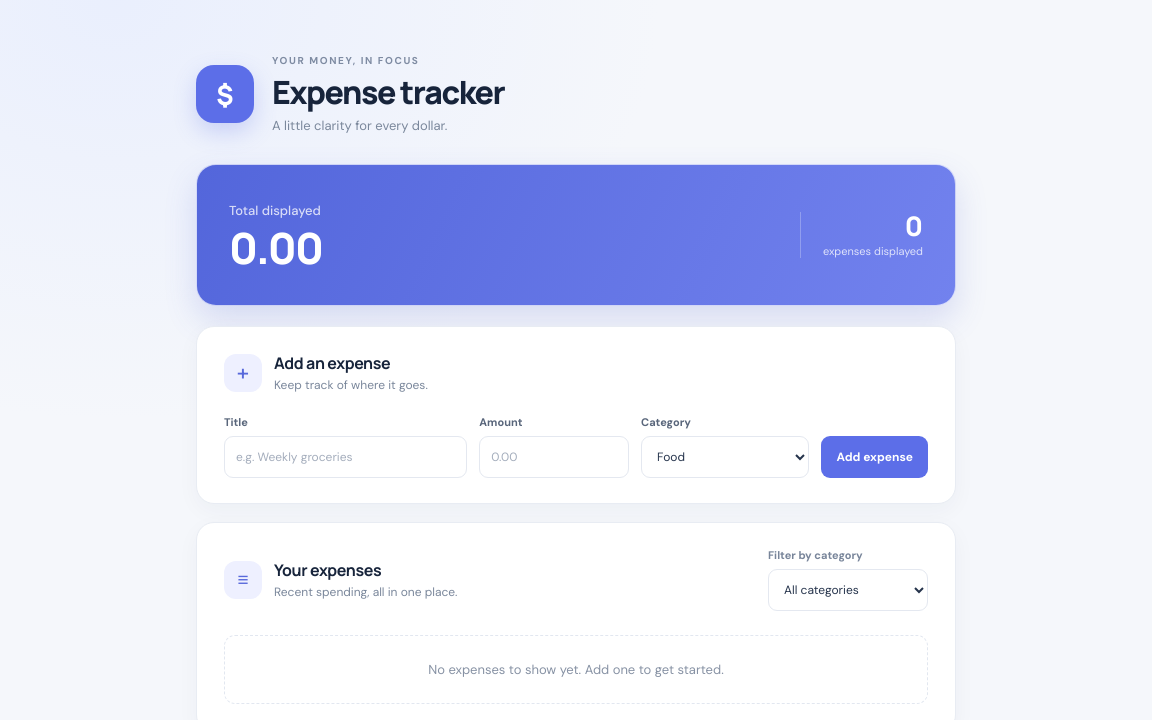
Test: Expense tracker › does not add an empty title or negative amount
The width and height of the screenshot is (1152, 720).
Type "10" into the number field with test id "amount" at (554, 457), box x1=479 y1=436 x2=629 y2=478
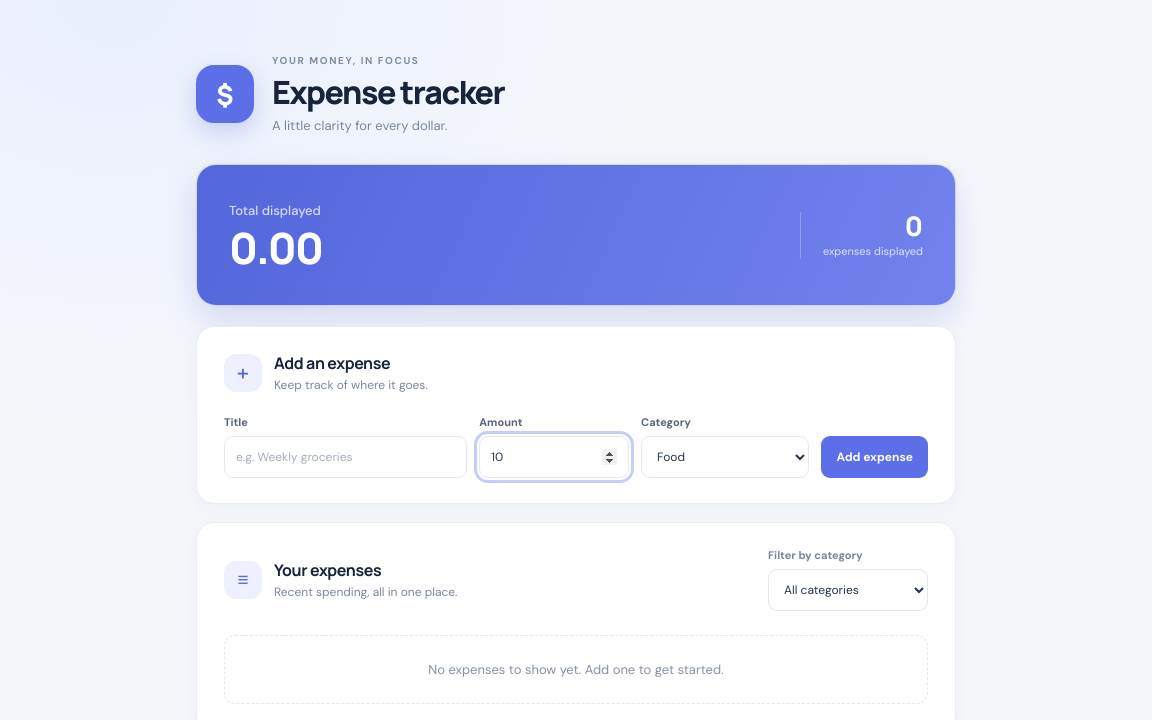
Click the button with test id "add-expense" at (876, 457), box x1=822 y1=436 x2=929 y2=478
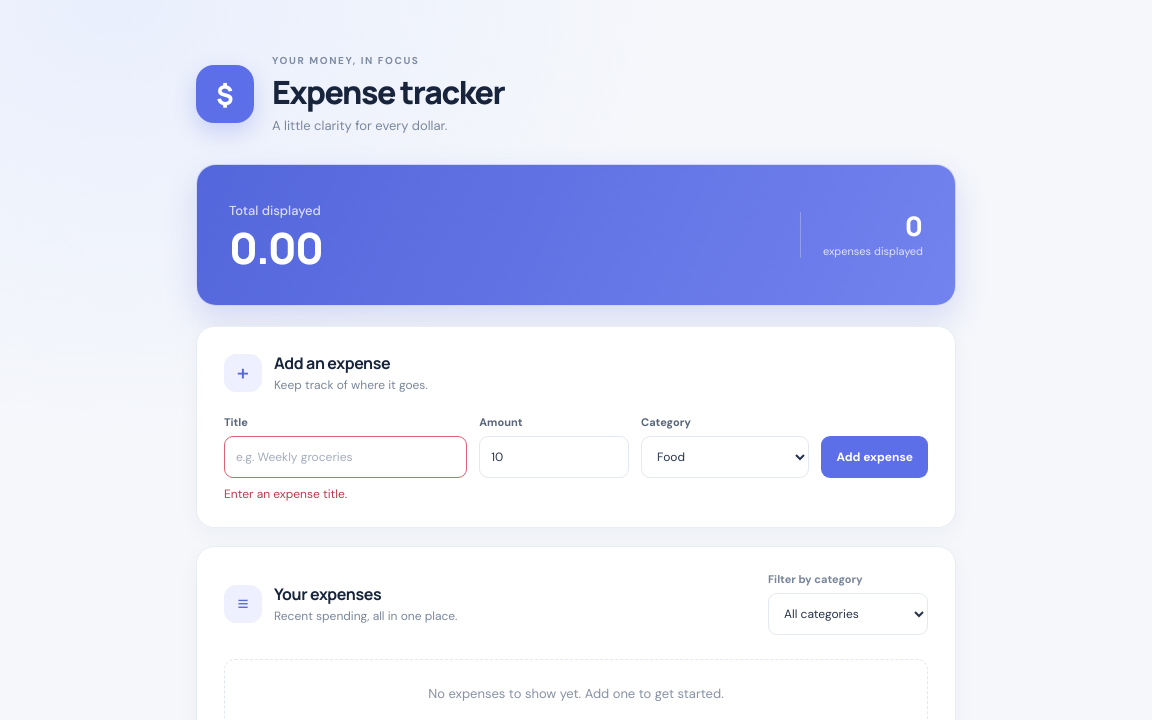
Now the message "Enter an expense title." is shown, box x1=224 y1=486 x2=347 y2=502
Type "Invalid" into the field with test id "title" at (346, 457), box x1=224 y1=436 x2=467 y2=478
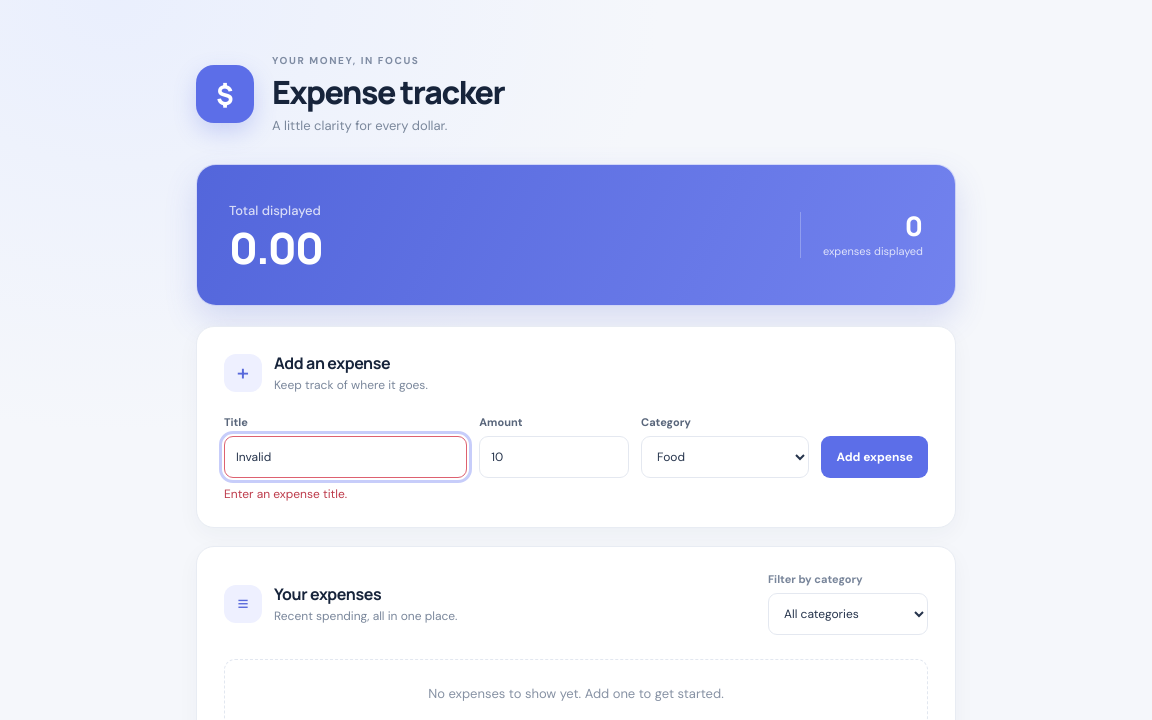
Replace the text in the number field with test id "amount" with "-5" at (554, 457), box x1=479 y1=436 x2=629 y2=478
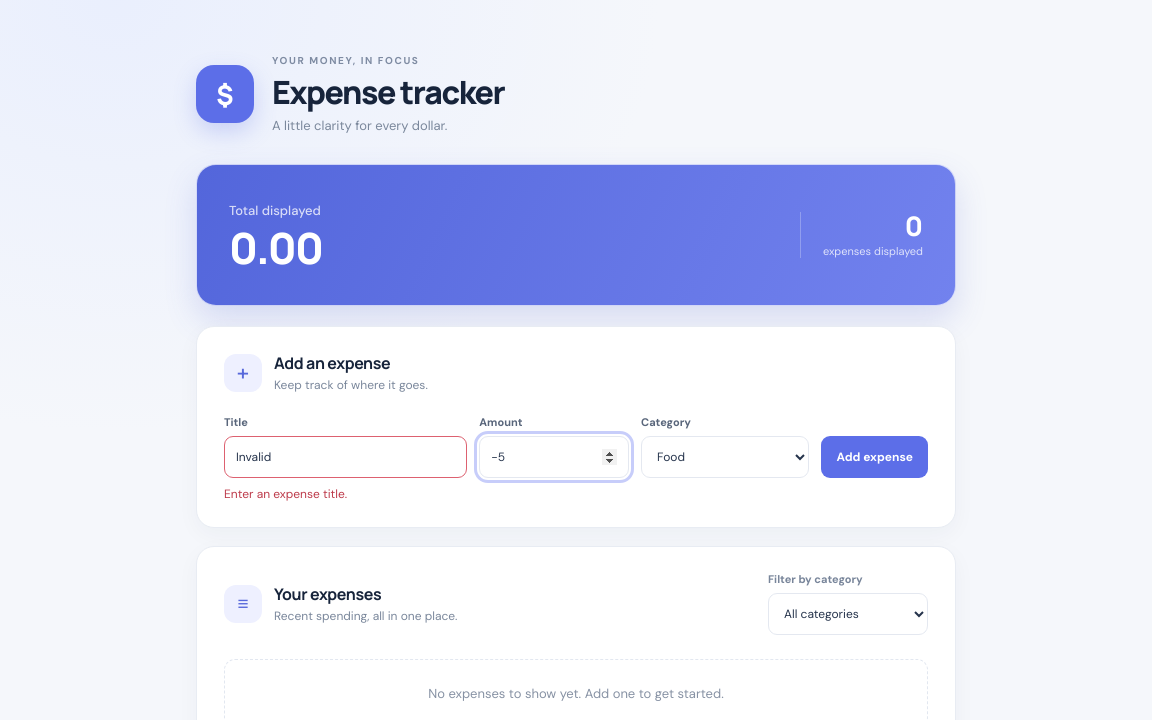
Click the button with test id "add-expense" at (876, 457), box x1=822 y1=436 x2=929 y2=478
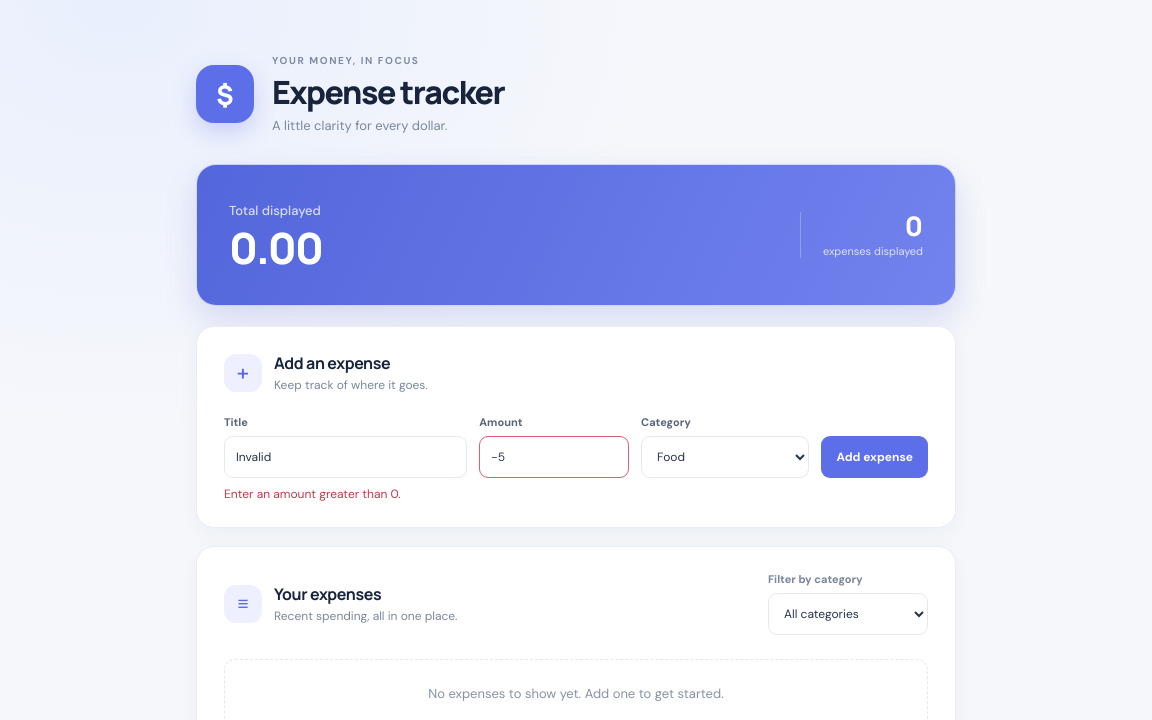
Now the message "Enter an amount greater than 0." is shown, box x1=224 y1=486 x2=401 y2=502
